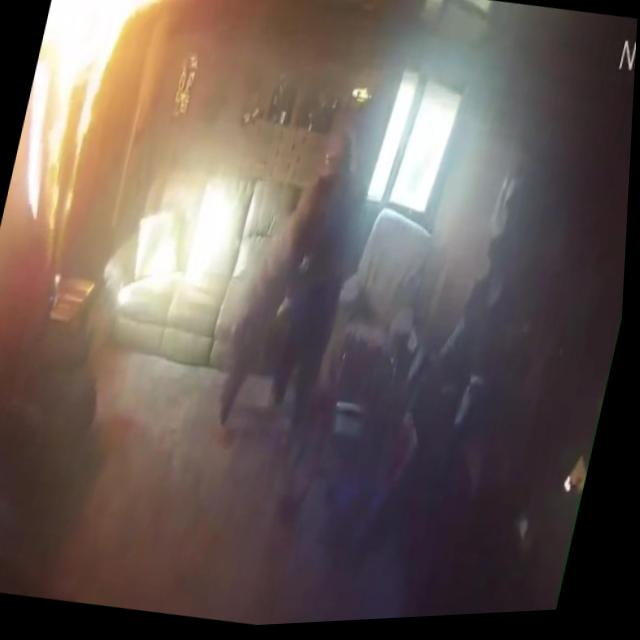fire: (2, 0, 190, 247)
